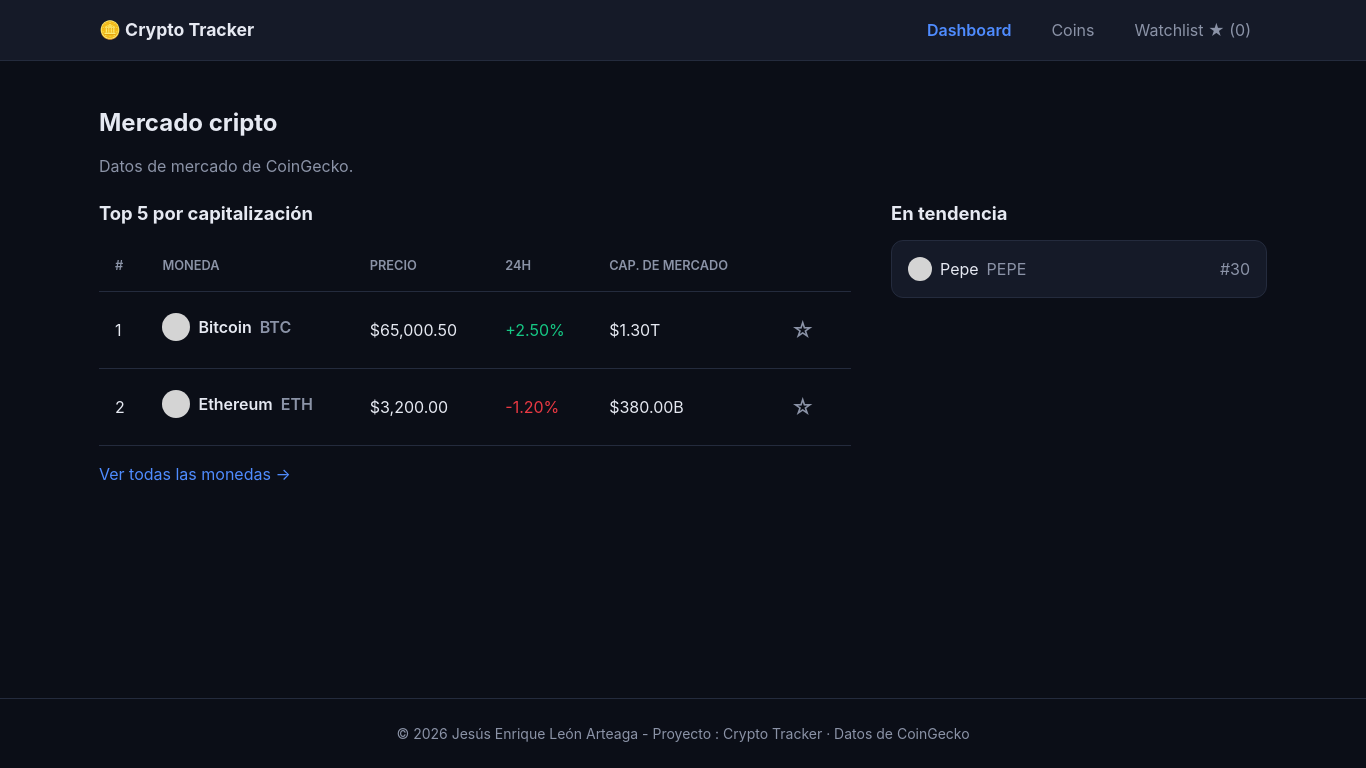
Test case: Flujos completos de la app › abre el detalle al pulsar una moneda del Dashboard
The width and height of the screenshot is (1366, 768).
Step 1. Click the link "Bitcoin BTC" → (227, 327), box [162,313,291,341]
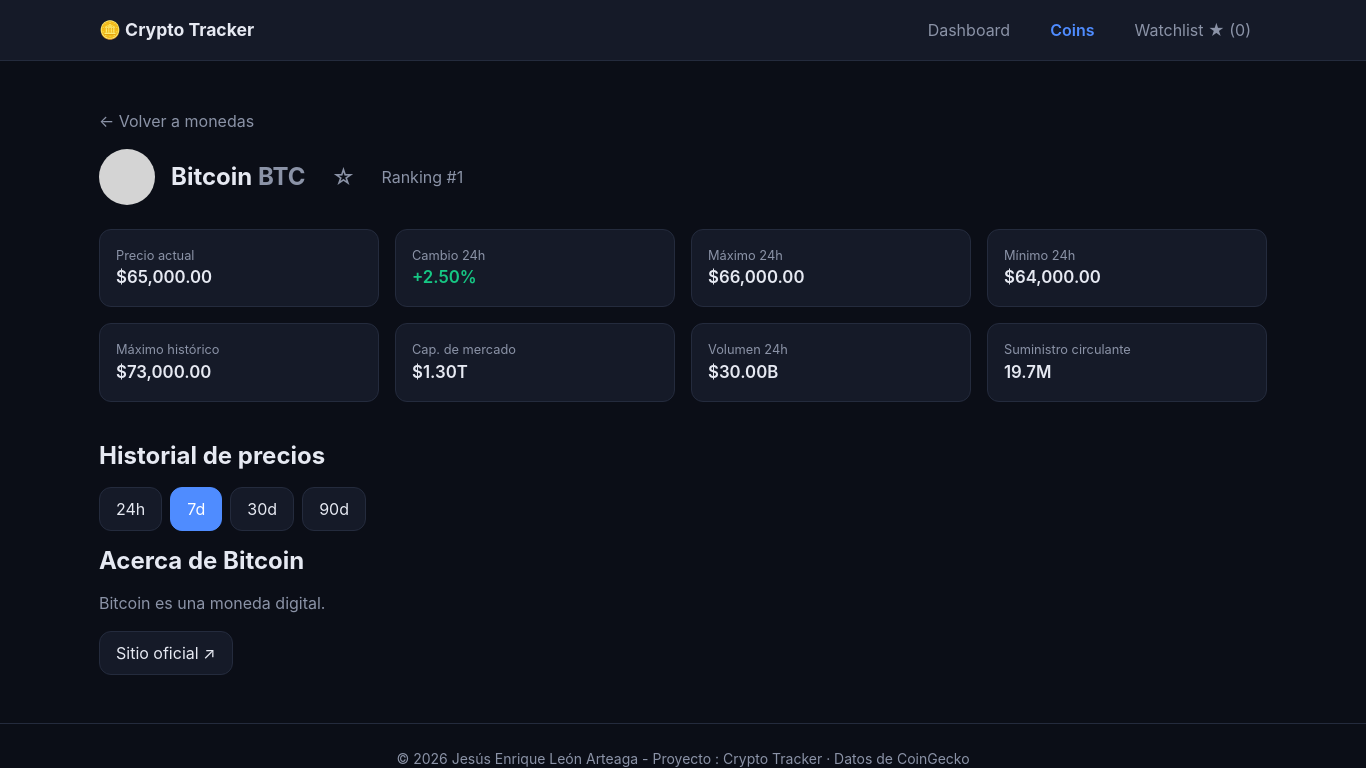
Check: the heading "Bitcoin BTC" is shown, box [171,163,306,191]
